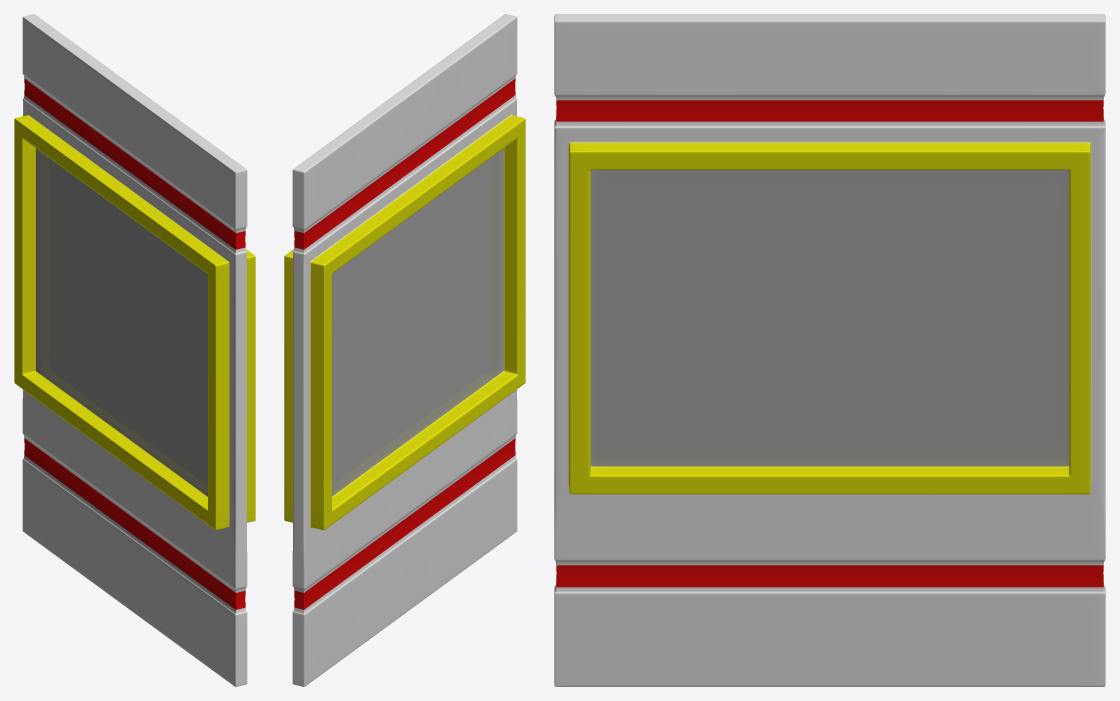
The model's file is Wall02_LP_FBX.fbx.
3 renders of one model, left to right at view 1: azimuth 30°, elevation 25°; view 2: azimuth 150°, elevation 25°; view 3: azimuth 270°, elevation 25°, orthographic. The views are drawn at different scales.
Parts seen in each view (by area): view 1: pCube19; view 2: pCube19; view 3: pCube19.
Boxes of the visible parts, x1,y1,x2,y2 form: pCube19: (14,14,255,686); pCube19: (284,14,525,686); pCube19: (554,14,1105,686).
Bounding box in the file's own units: 32.8 × 400 × 300.
